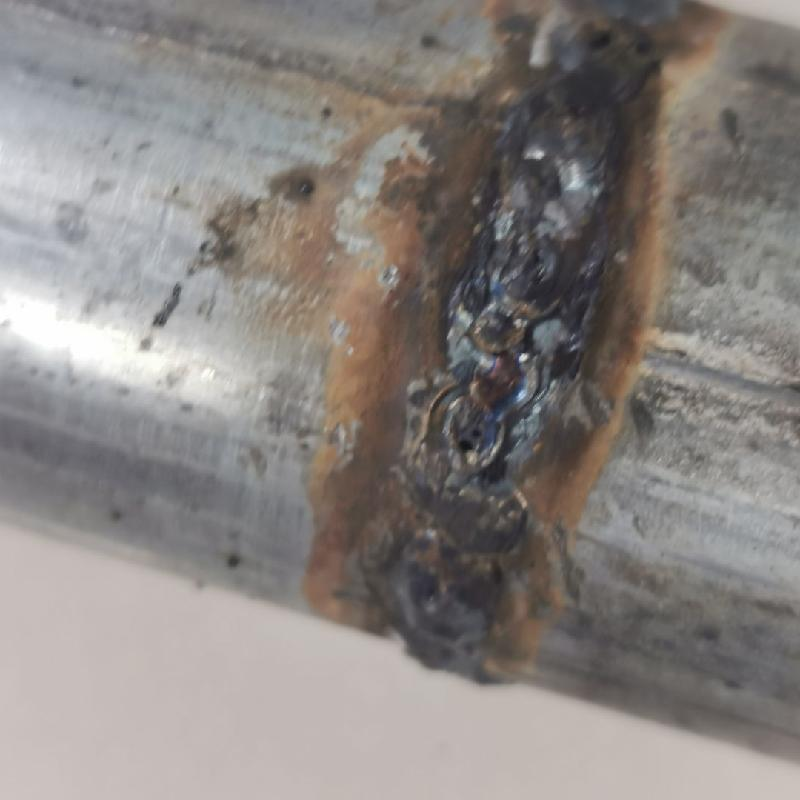Surface_pores: (561, 12, 644, 78), (445, 410, 493, 465)
crater: (430, 238, 570, 475)
